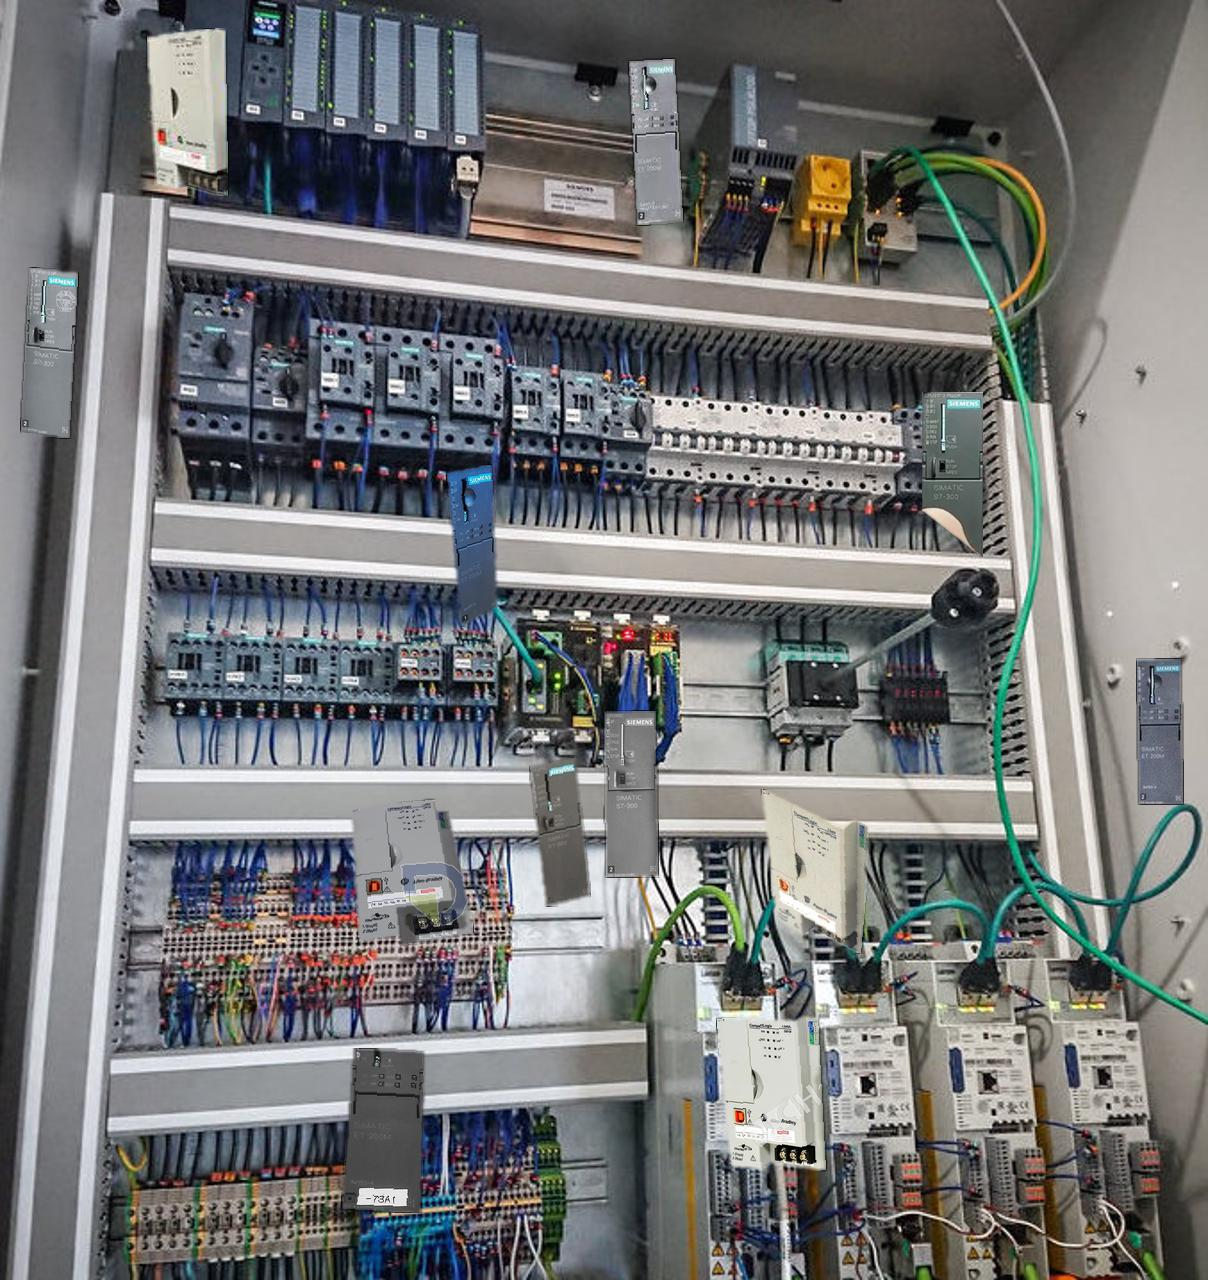AllenBradley: (352, 800, 473, 944), (762, 789, 867, 953), (718, 1017, 825, 1169), (146, 30, 227, 195)
Siemens: (922, 392, 982, 557), (20, 268, 77, 437), (530, 758, 589, 905), (605, 711, 657, 876)
